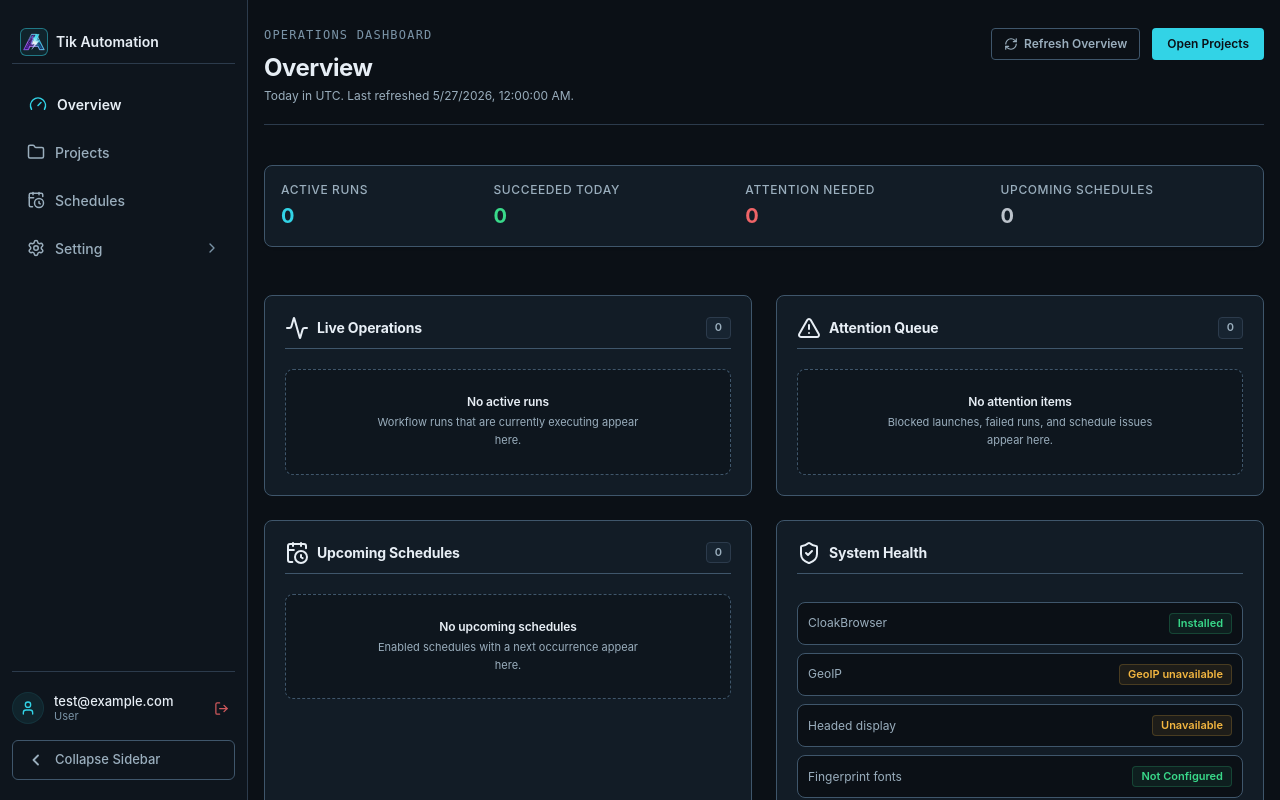
Workflow graph editor integration › expands graph nodes with many ports so branch handles stay separated
The width and height of the screenshot is (1280, 800).
What coordinates should you click on to do the following:
click the button "Projects"
I would click on:
 (124, 152)
Its box is [12,132,235,172].
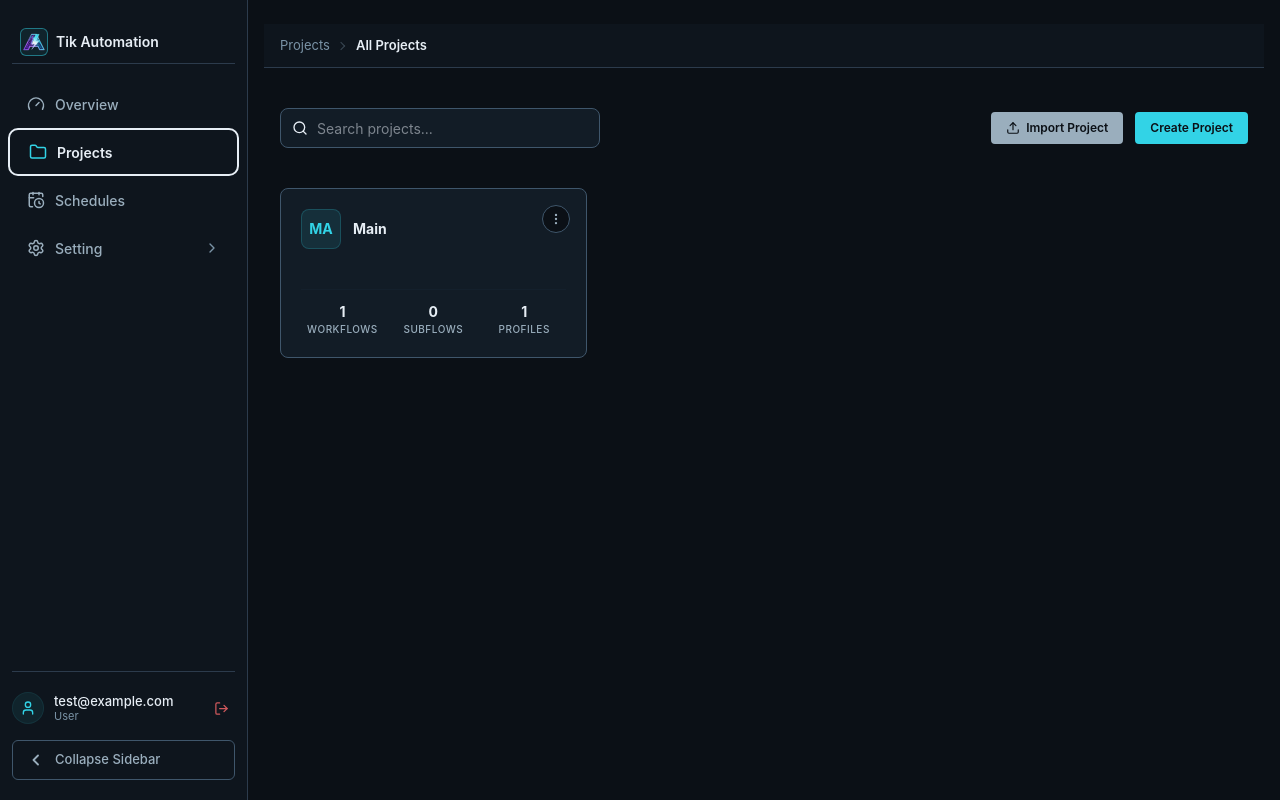
What coordinates should you click on to do the following:
click the button "MA Main 1 Workflows 0 Subflows 1 Profiles"
I would click on:
 (321, 229)
Its box is [280,188,587,358].
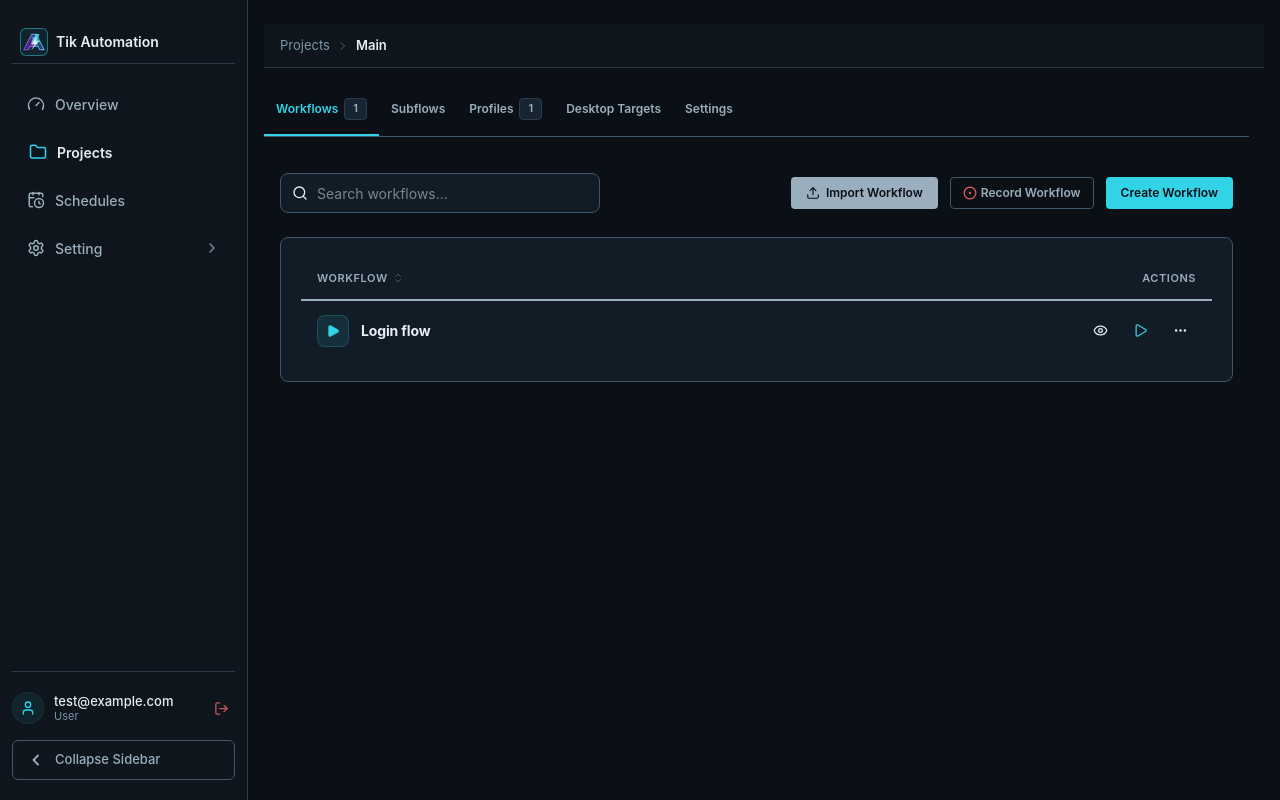
expect the button "Workflows 1" is shown: met, box [264,96,379,136]
What coordinates should you click on to do the following:
click the button named "View Details"
I would click on:
 (1100, 330)
Its box is [1084,314,1116,346].
(page scrolled)
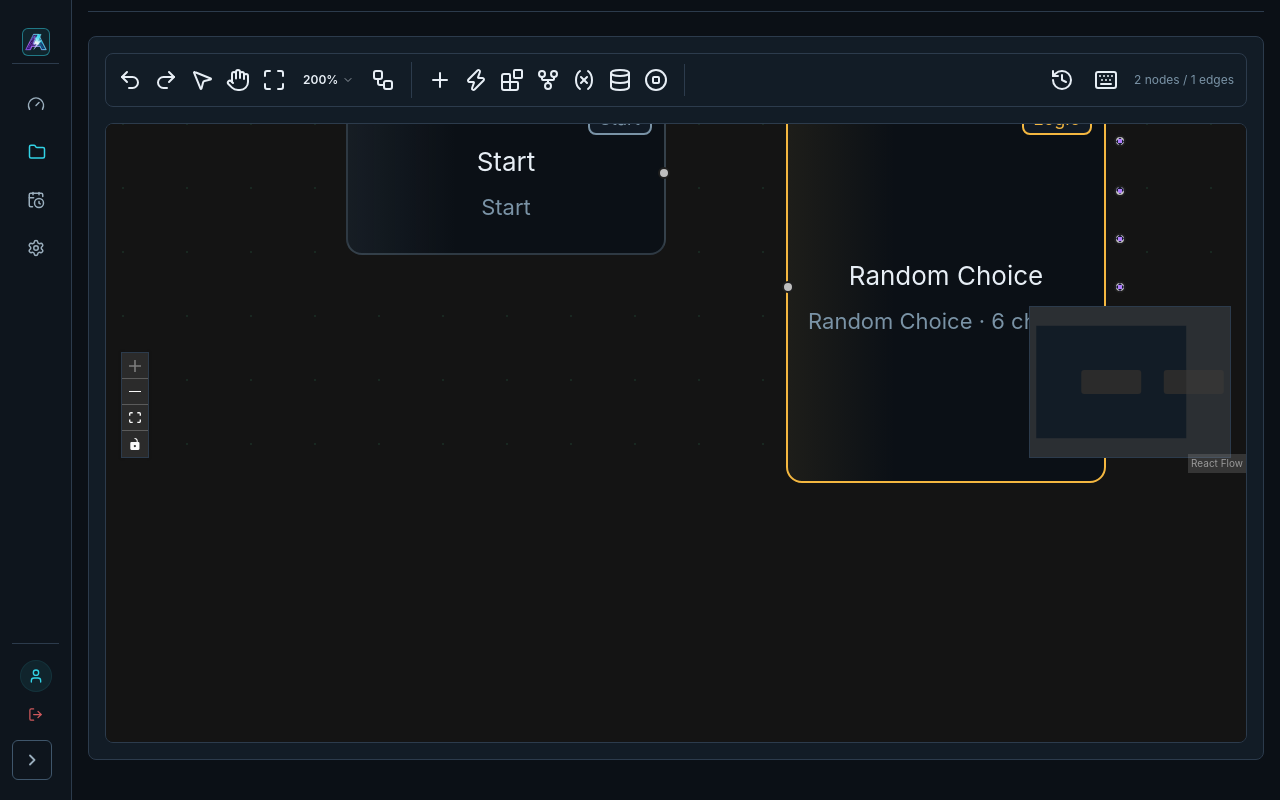
expect the element named "Random Choice Done port" is shown: met, box [1098,426,1110,438]
